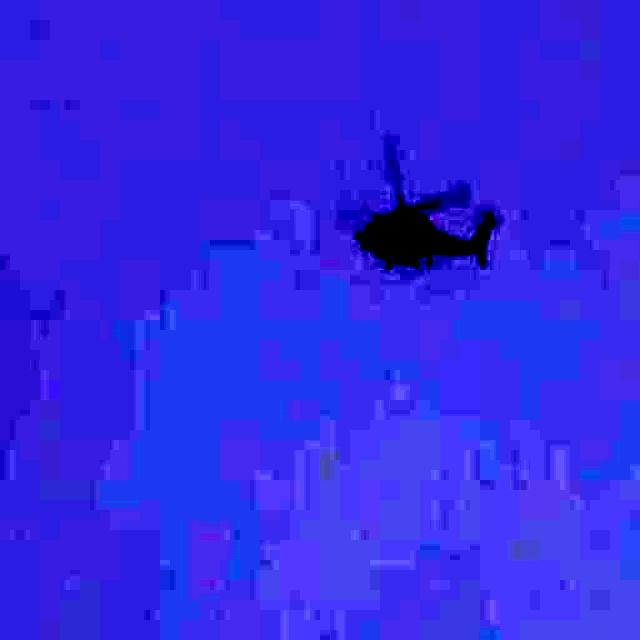drone: (346, 135, 502, 318)
